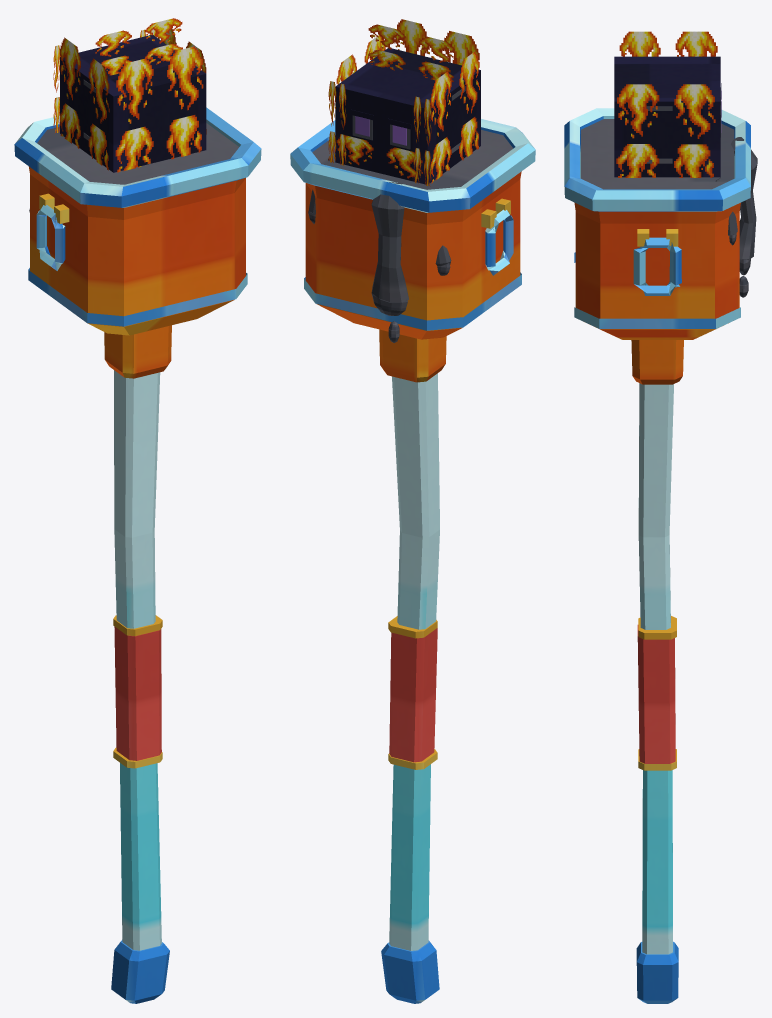
File: furnace_staff_fire.obj
3 views of the same model, side by side, from view 1: azimuth 30°, elevation 25°; view 2: azimuth 150°, elevation 25°; view 3: azimuth 270°, elevation 25° (orthographic).
Parts seen in each view (by area): view 1: forged_square_cauldron, wooden_shaft, emerging_voxel_body, thick_square_rim, leather_grip, FLAME_emerging_back_wrap, EM_elemental_pool, iron_foot_ferrule, neck_ferrule, FLAME_emerging_left_wrap, lower_iron_binding, FLAME_emerging_top_flicker (+1 smaller); view 2: forged_square_cauldron, wooden_shaft, emerging_voxel_body, thick_square_rim, leather_grip, EM_overflow_0, iron_foot_ferrule, EM_elemental_pool, neck_ferrule, FLAME_emerging_left_wrap, lower_iron_binding, FLAME_emerging_top_flicker (+6 smaller); view 3: forged_square_cauldron, wooden_shaft, emerging_voxel_body, thick_square_rim, FLAME_emerging_right_wrap, leather_grip, EM_elemental_pool, neck_ferrule, iron_foot_ferrule, lower_iron_binding, FLAME_emerging_left_wrap, iron_side_loop_1 (+2 smaller).
Boxes of the visible parts, x1,y1,x2,y2 form: forged_square_cauldron: (28,166,245,335); wooden_shaft: (114,370,161,950); emerging_voxel_body: (60,35,206,172); thick_square_rim: (14,107,261,207); leather_grip: (114,626,161,760); FLAME_emerging_back_wrap: (115,46,203,172); EM_elemental_pool: (37,123,238,184); iron_foot_ferrule: (111,940,169,1003); neck_ferrule: (104,325,171,378); FLAME_emerging_left_wrap: (59,37,109,170); lower_iron_binding: (28,268,247,326); FLAME_emerging_top_flicker: (95,18,182,75); forged_square_cauldron: (305,171,521,339); wooden_shaft: (389,373,439,950); emerging_voxel_body: (335,48,480,184); thick_square_rim: (290,119,535,212); leather_grip: (389,628,437,762); EM_overflow_0: (371,182,408,302); iron_foot_ferrule: (381,940,439,1003); EM_elemental_pool: (312,130,512,189); neck_ferrule: (379,329,446,382); FLAME_emerging_left_wrap: (430,51,479,183); lower_iron_binding: (304,272,521,330); FLAME_emerging_top_flicker: (368,24,455,81); forged_square_cauldron: (574,202,740,339); wooden_shaft: (638,383,673,954); emerging_voxel_body: (614,56,720,177); thick_square_rim: (564,108,750,211); FLAME_emerging_right_wrap: (616,84,715,177); leather_grip: (637,625,675,763); EM_elemental_pool: (581,119,734,189); neck_ferrule: (631,340,683,384); iron_foot_ferrule: (636,941,678,1003); lower_iron_binding: (574,252,740,328); FLAME_emerging_left_wrap: (619,31,717,56); iron_side_loop_1: (633,237,681,295).
Size of the model in its own units: 0.5475 by 2.75 by 0.5006.
